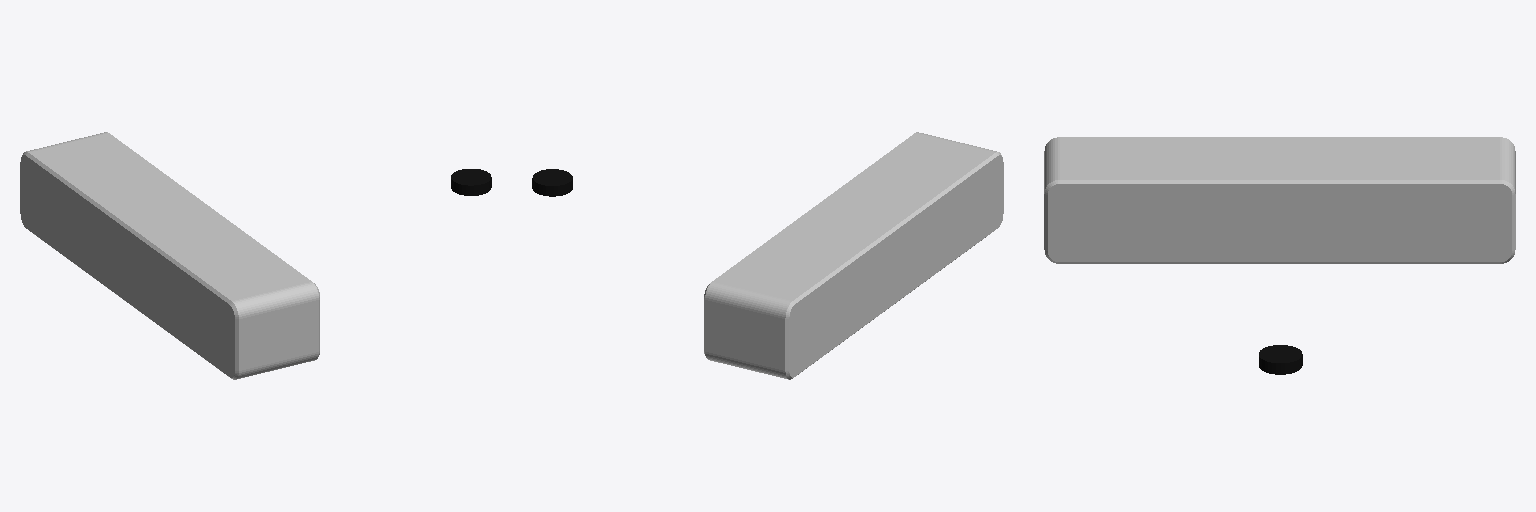
robot.urdf — leadsense_camera:
<?xml version="1.0"?>
<robot name="leadsense_camera">

    <link name="leadsense_left_camera">
        <visual>
            <origin xyz="0 0 0" rpy="0 0 0"/>
            <geometry>
                <cylinder radius="0.007" length="0.004"/>
            </geometry>
            <material name="dark_grey">
                <color rgba="0.1 0.1 0.1 1"/>
            </material>
        </visual>
    </link>
    <link name="leadsense_center">
        <visual>
            <origin xyz="0 0 0" rpy="0 0 0"/>
            <geometry>
                <mesh filename="package://leadsense_ros/urdf/leadsenseL.stl" scale="0.001 0.001 0.001"/>
            </geometry>
            <material name="grey">
                <color rgba="0.8 0.8 0.8 1"/>
            </material>
        </visual>
    </link>
    <link name="leadsense_right_camera">
        <visual>
            <origin xyz="0 0 0" rpy="0 0 0"/>
            <geometry>
                <cylinder radius="0.007" length="0.004"/>
            </geometry>
            <material name="dark_grey">
                <color rgba="0.1 0.1 0.1 1"/>
            </material>
        </visual>
    </link>

    <link name="leadsense_imu_frame">
    </link>
    
    <link name="leadsense_left_laser_scan_frame">
    </link>

    <joint name="imu_link_joint" type="fixed">
    	<parent link="leadsense_left_camera" />
    	<child link="leadsense_imu_frame" />
    	<origin xyz="0.09195 -0.00005 -0.009" rpy="0 0 0" />
    </joint>
    <joint name="leadsense_center_joint" type="fixed">
        <parent link="leadsense_left_camera"/>
        <child link="leadsense_center"/>
        <origin xyz="0 0 0" rpy="0 0 0" />
    </joint>
    <joint name="leadsense_right_camera_joint" type="fixed">
        <parent link="leadsense_left_camera"/>
        <child link="leadsense_right_camera"/>
        <origin xyz="0.12 0 0" rpy="0 0 0" />
    </joint>
    <joint name="leadsense_left_laser_scan_frame_joint" type="fixed">
        <parent link="leadsense_left_camera"/>
        <child link="leadsense_left_laser_scan_frame"/> <!-- angles are measured around the positive Z axis (counterclockwise, if Z is up) with zero angle being forward along the x axis -->
        <origin xyz="0 0 0" rpy="-1.57 -1.57 0" />
    </joint>

</robot>

--- Render facts (derived) ---
3 views of the same robot in one strip: view 1: azimuth 30°, elevation 25°; view 2: azimuth 150°, elevation 25°; view 3: azimuth 270°, elevation 25° (orthographic).
Robot: leadsense_camera — 5 links, 4 joints (4 fixed); root link leadsense_left_camera; default pose: all joints at 0.
Links seen in each view (by area): view 1: leadsense_center, leadsense_right_camera; view 2: leadsense_center, leadsense_right_camera; view 3: leadsense_center, leadsense_right_camera.
Link boxes in pixels (x1,y1,x2,y2): leadsense_center: [20, 132, 319, 379]; leadsense_right_camera: [451, 169, 491, 195]; leadsense_center: [704, 132, 1003, 379]; leadsense_right_camera: [532, 169, 572, 196]; leadsense_center: [1044, 137, 1515, 263]; leadsense_right_camera: [1259, 345, 1302, 374].
Size in the robot's own frame: 0.144 by 0.15 by 0.0296 metres.
Meshes: 1 distinct files referenced, 1 mesh visuals loaded (1 binary STL).